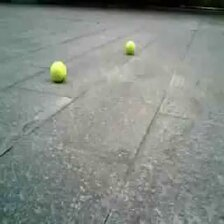tennis: (50, 62, 66, 80), (124, 39, 136, 53)
